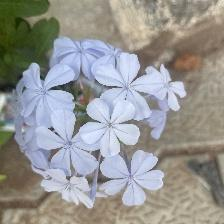chitrak: (95, 50, 161, 117), (78, 97, 142, 160), (39, 109, 99, 175), (100, 150, 167, 206), (21, 66, 79, 123), (56, 33, 110, 78), (43, 169, 96, 210), (149, 65, 190, 105)
